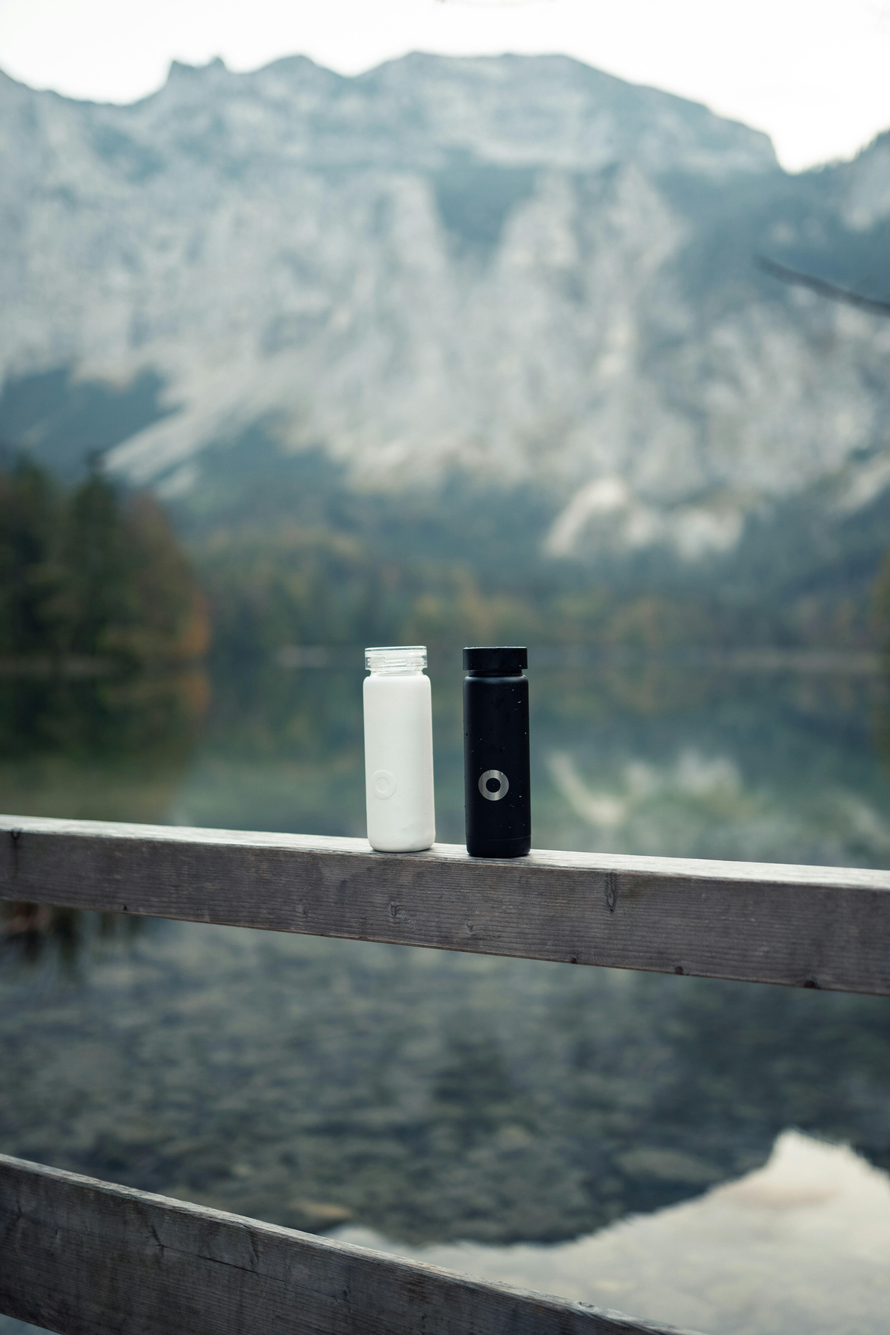Bottle-Detection: (334, 619, 456, 886), (443, 623, 565, 883)
